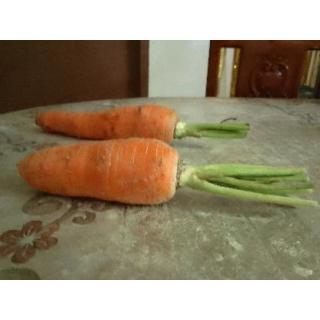Wortel: (27, 92, 320, 242)
